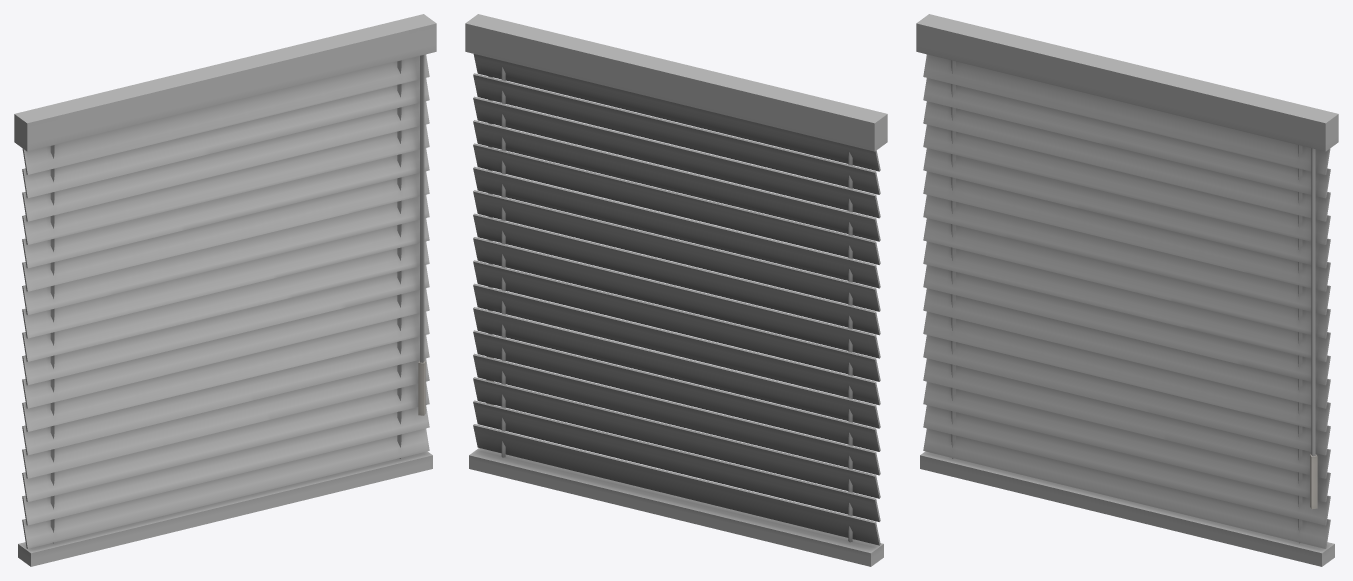
The model's file is sb_obj_ModernCity048_blind_c.fbx.
The picture shows the model from 3 angles, left to right: view 1: azimuth 30°, elevation 25°; view 2: azimuth 150°, elevation 25°; view 3: azimuth 330°, elevation 25°; orthographic projection.
Visible parts, largest first — view 1: sb_obj_ModernCity048_blind_c; view 2: sb_obj_ModernCity048_blind_c; view 3: sb_obj_ModernCity048_blind_c.
Part boxes in pixels (x1,y1,x2,y2): sb_obj_ModernCity048_blind_c: (14,14,436,566); sb_obj_ModernCity048_blind_c: (465,14,887,566); sb_obj_ModernCity048_blind_c: (916,14,1338,566).
Bounding box in the file's own units: 0.7336 × 0.7609 × 0.0425.
Materials: 1 (1 with a texture image).
